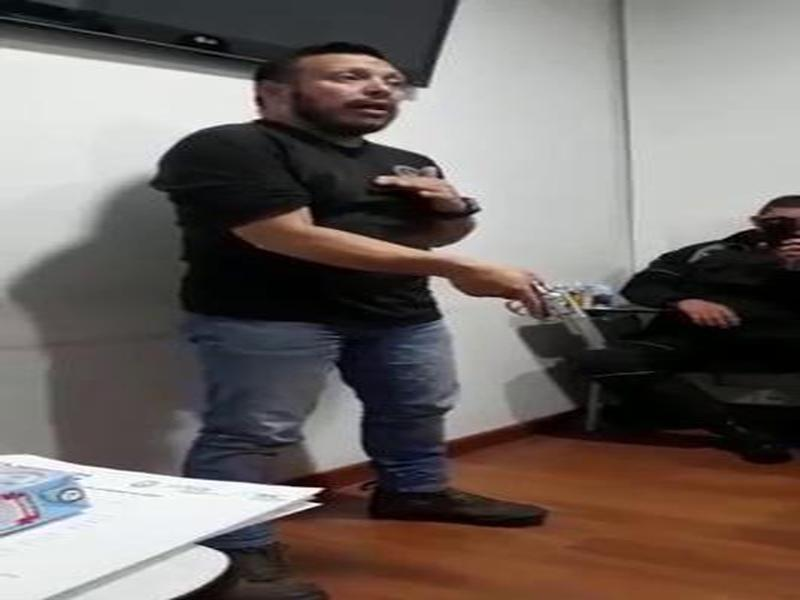Revolver: (499, 261, 629, 384)
